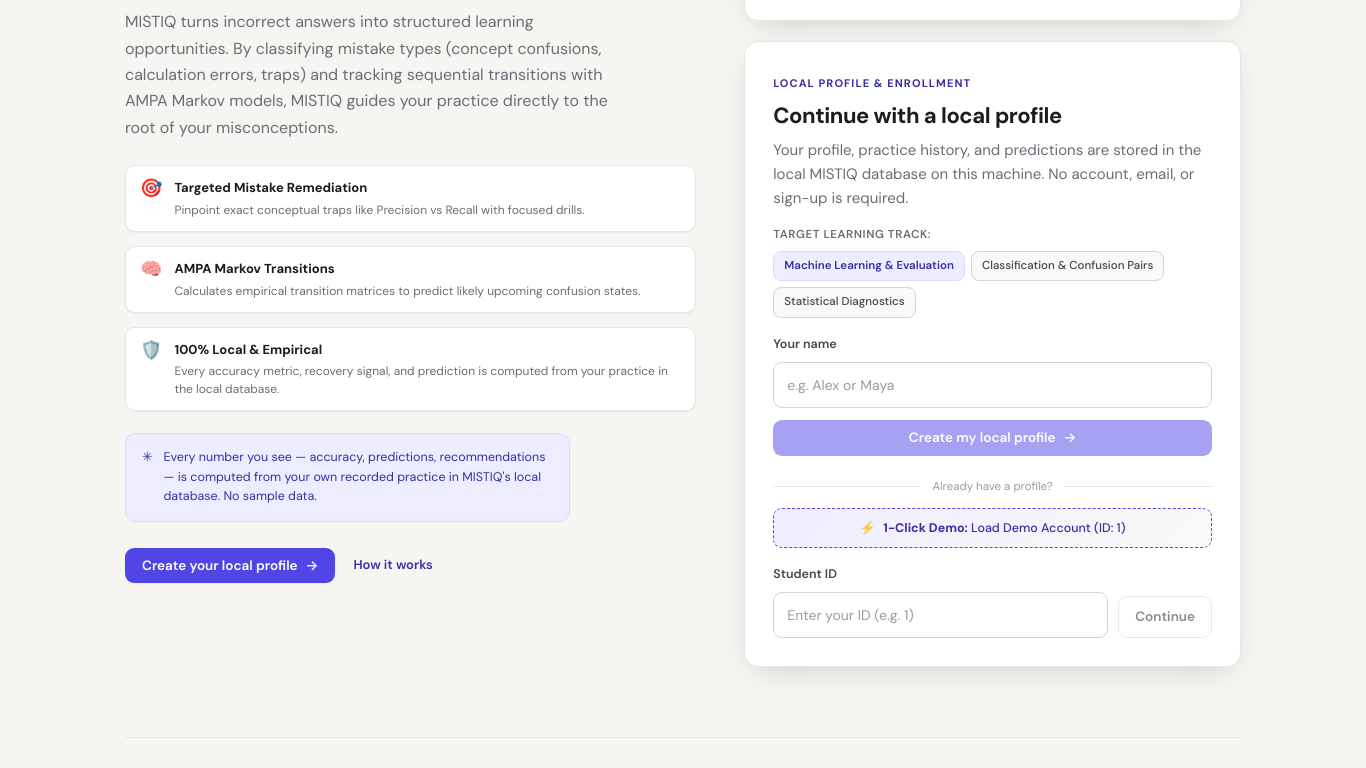
MISTIQ student app › shows an incorrect-answer feedback panel without blame
(page scrolled)
Step 1. Type "Sam Learner" into the field labelled "Your name" → (993, 385), box [773, 362, 1212, 408]
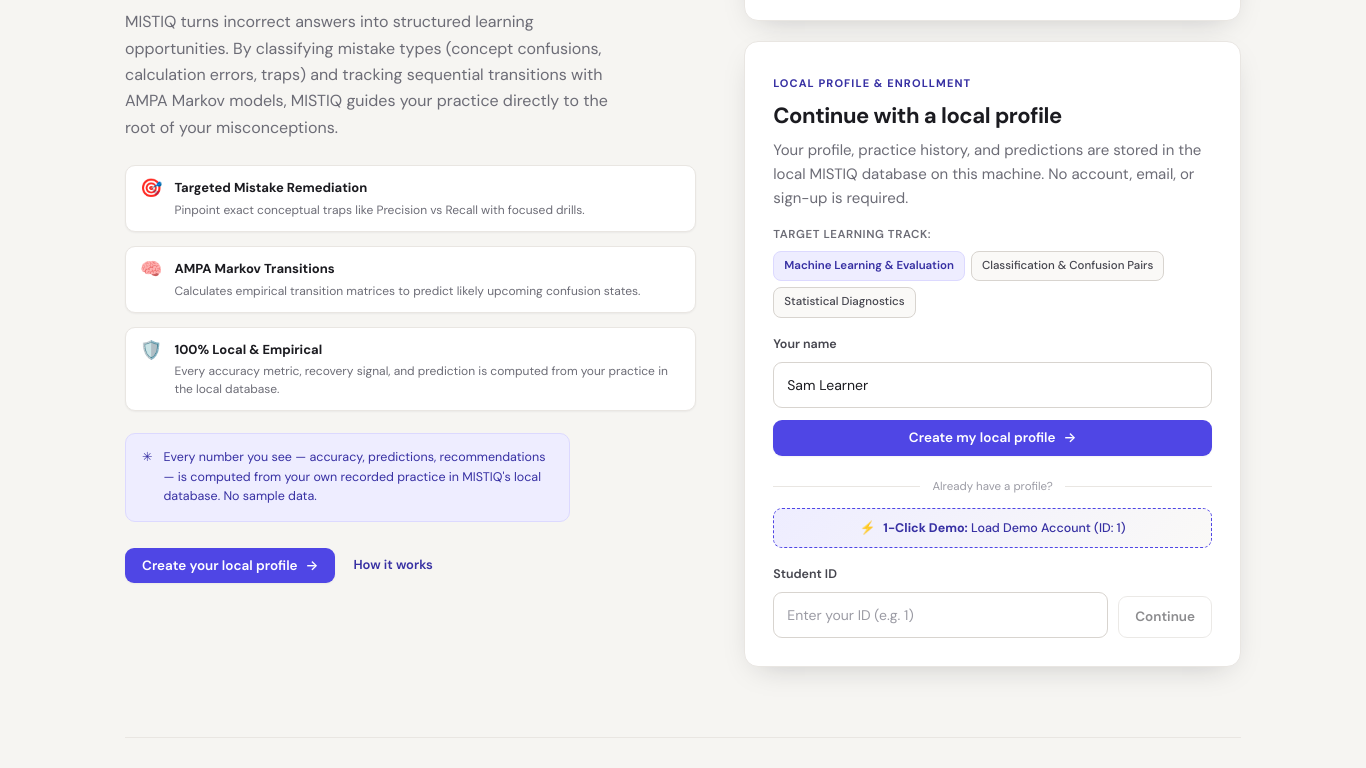
Step 2. Click the button "Create my local profile →" → (993, 438), box [773, 420, 1212, 456]
(page scrolled)
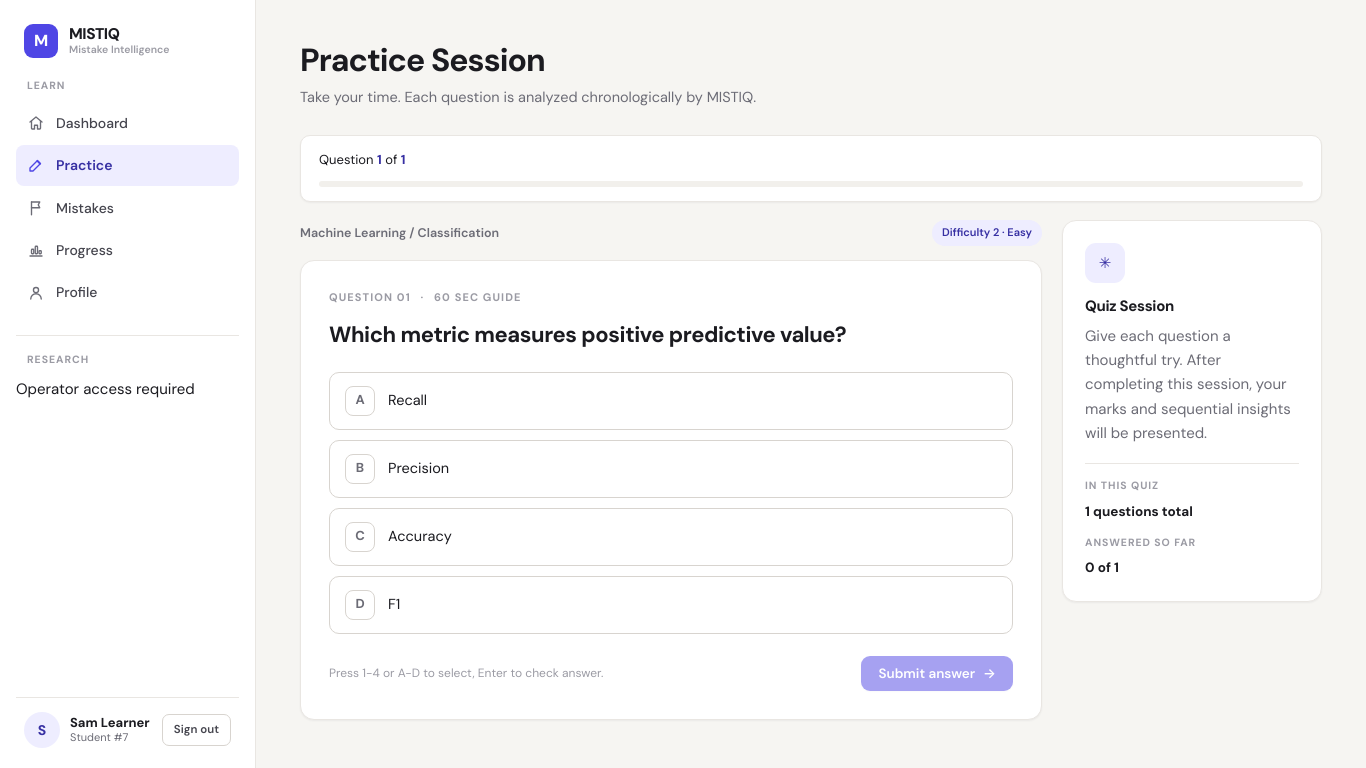
Expected: the heading "Which metric measures positive predictive value?" is shown, [329, 320, 846, 349]
Step 3. Click the text "Recall" → (408, 400), box [388, 391, 427, 409]
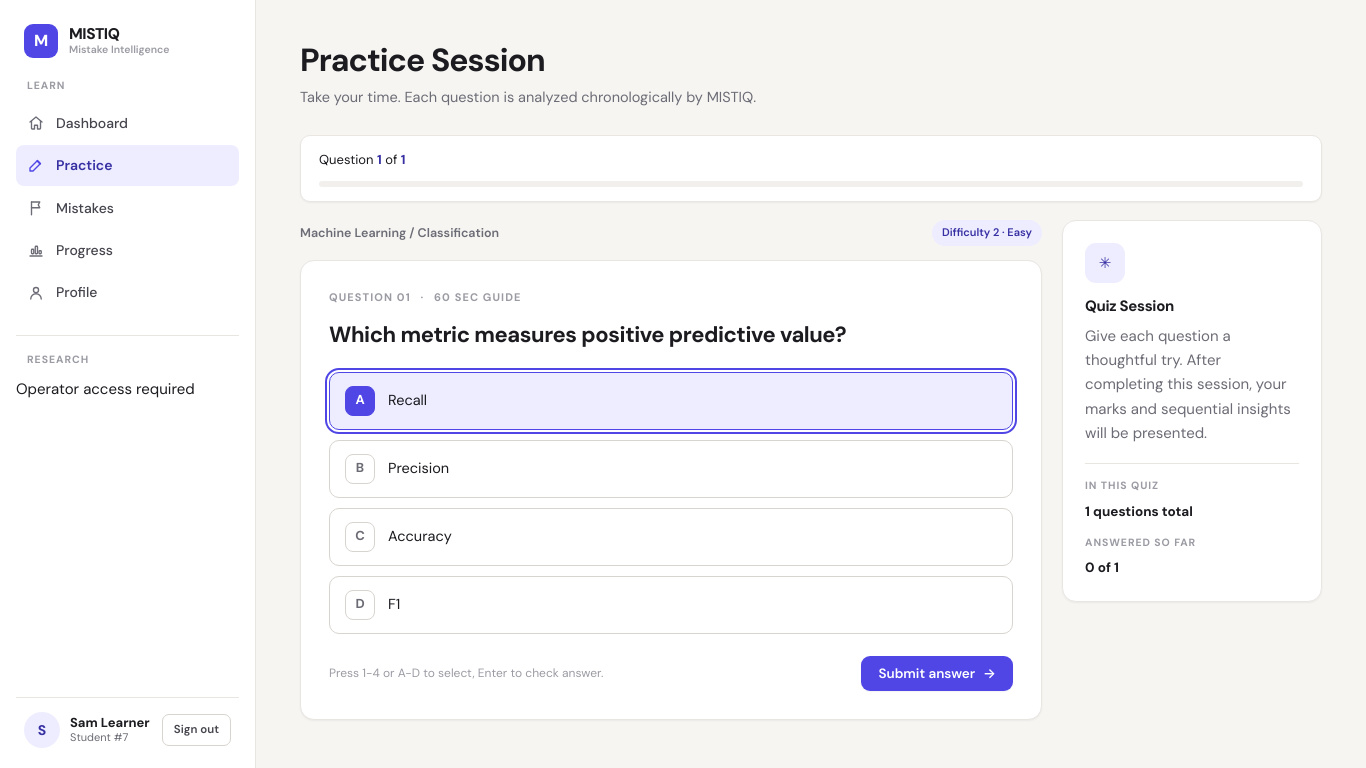
Step 4. Click the button "Submit answer →" → (937, 674), box [861, 656, 1013, 691]
(page scrolled)
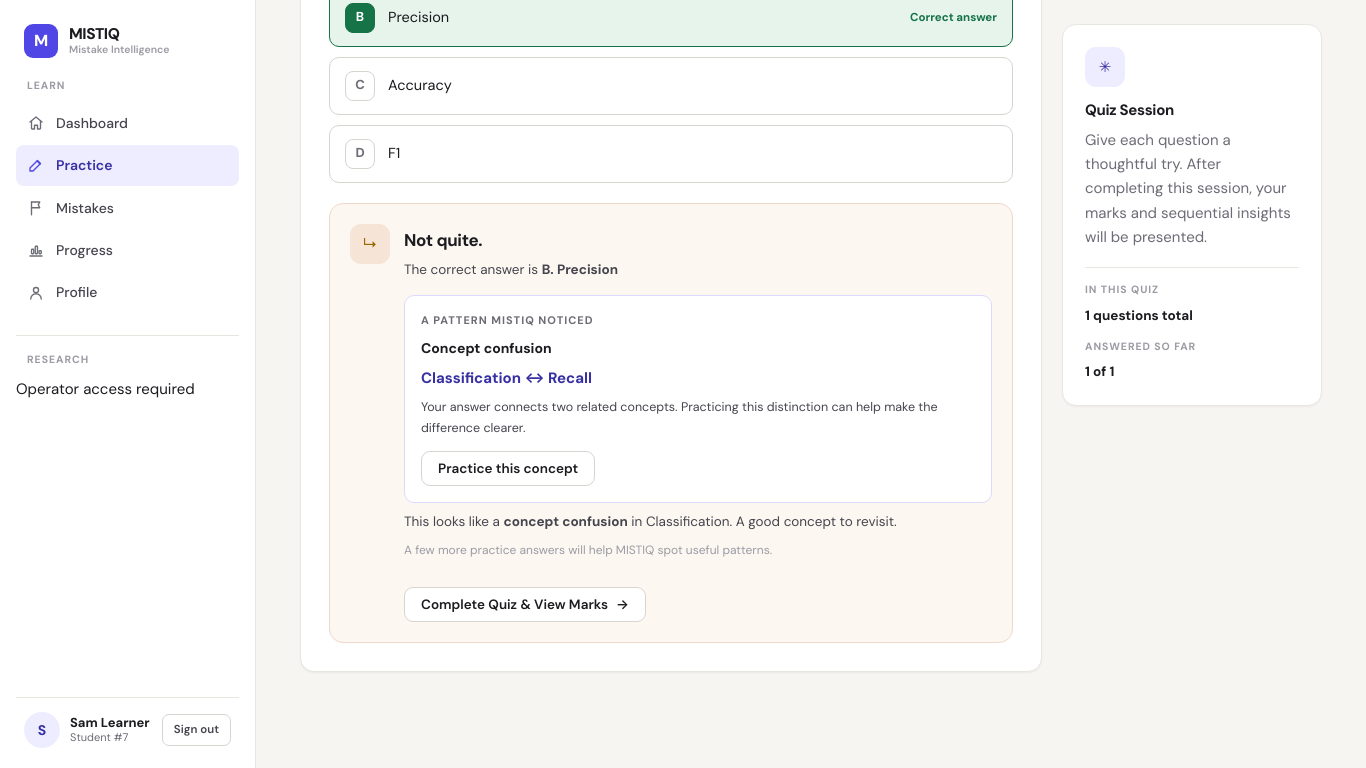
Expected: the heading "Not quite." is shown, [404, 229, 482, 251]
Expected: the text "Concept confusion" is shown, [421, 339, 552, 357]
Expected: the text "A good concept to revisit" is shown, [730, 513, 897, 530]
